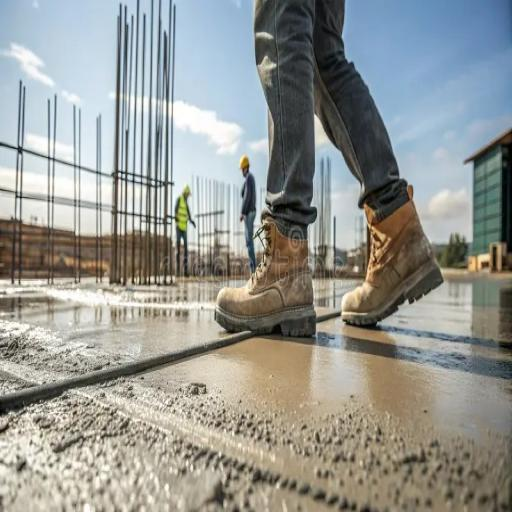safety_boots: (329, 207, 449, 337), (202, 222, 319, 346)
